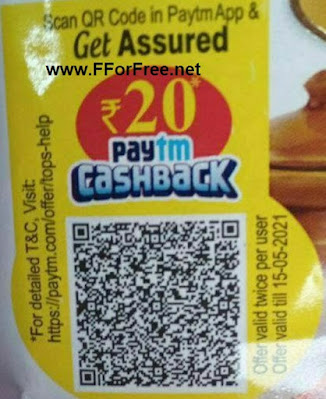qr_code: (68, 217, 244, 392)
